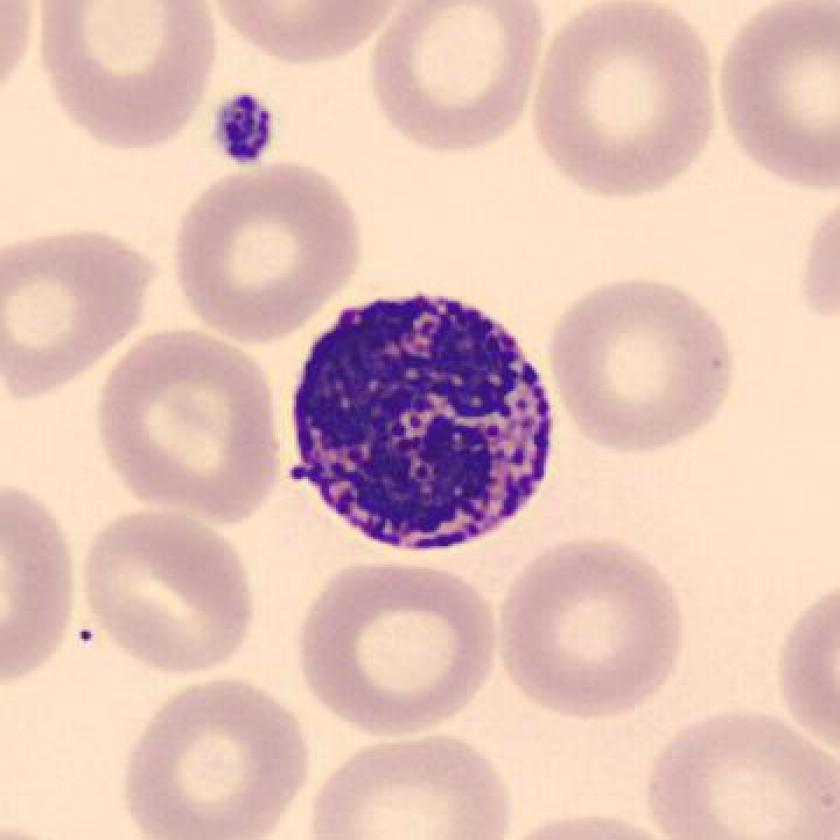basophil: (277, 286, 564, 573)
